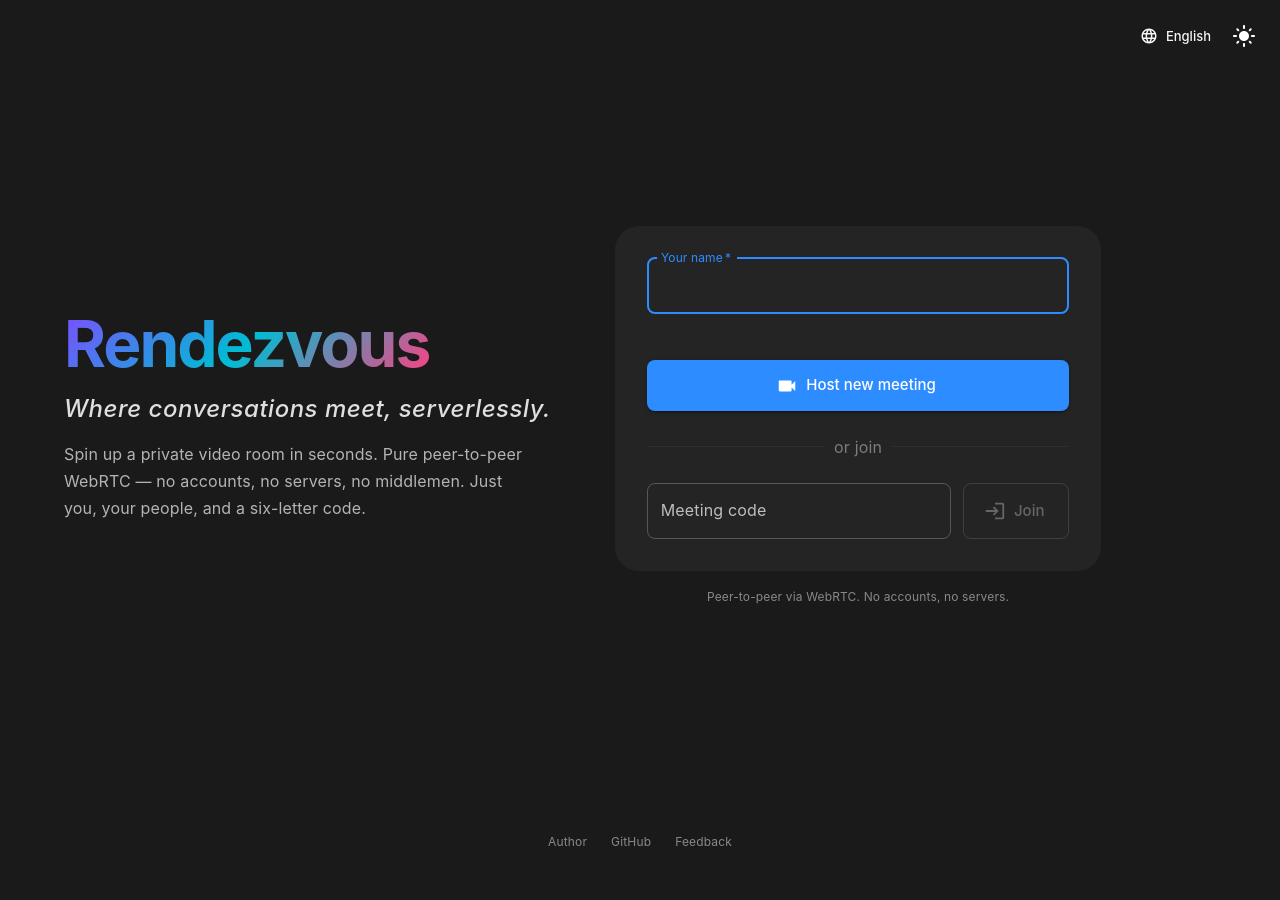
Test: HomePage › shows the required hint on the name field once the user starts typing a code
This screenshot has width=1280, height=900.
Type "a" into the field labelled "Meeting code" at (799, 511), box [647,483,951,539]
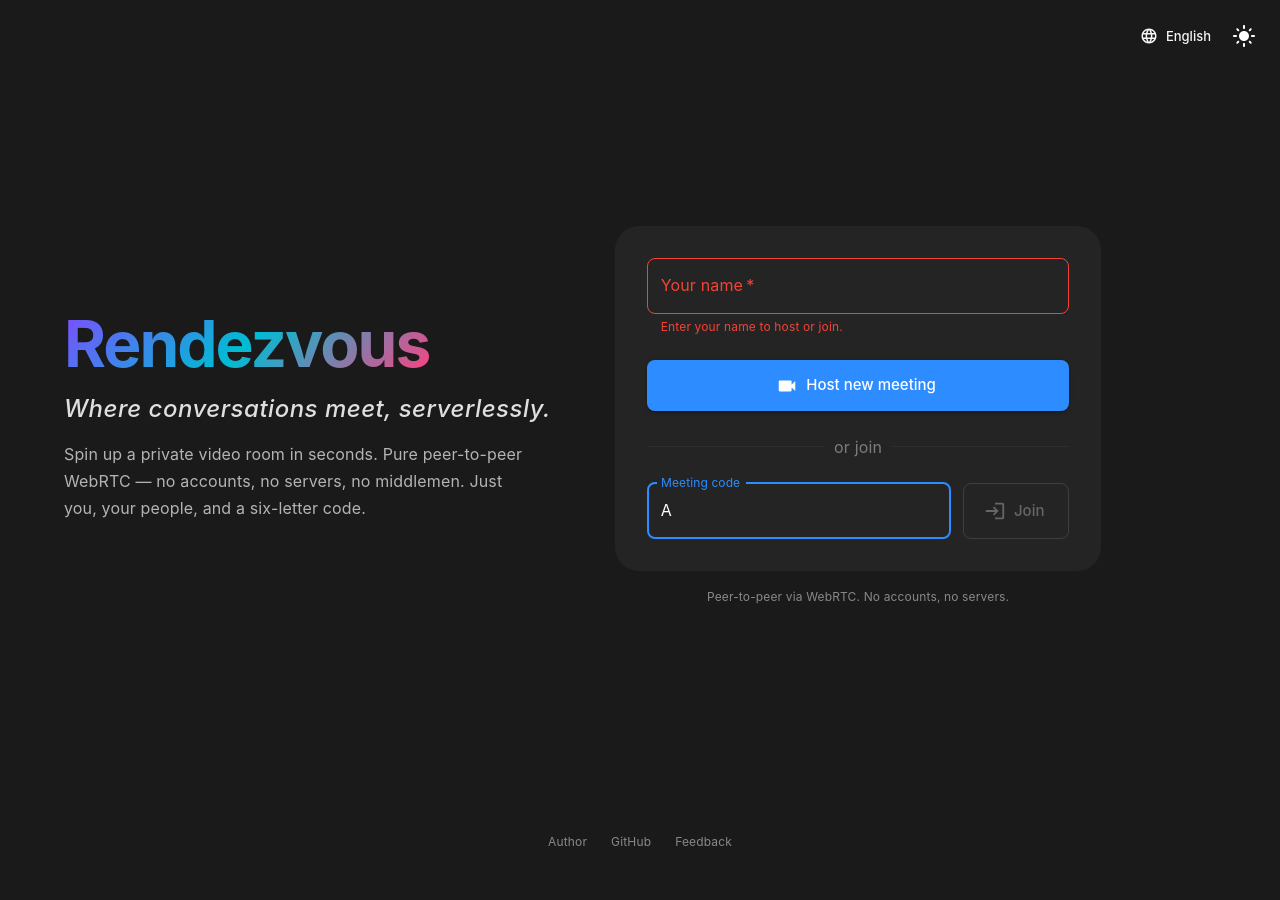
Expected: the text "Enter your name to host or join." is shown, [661,318,843,334]
